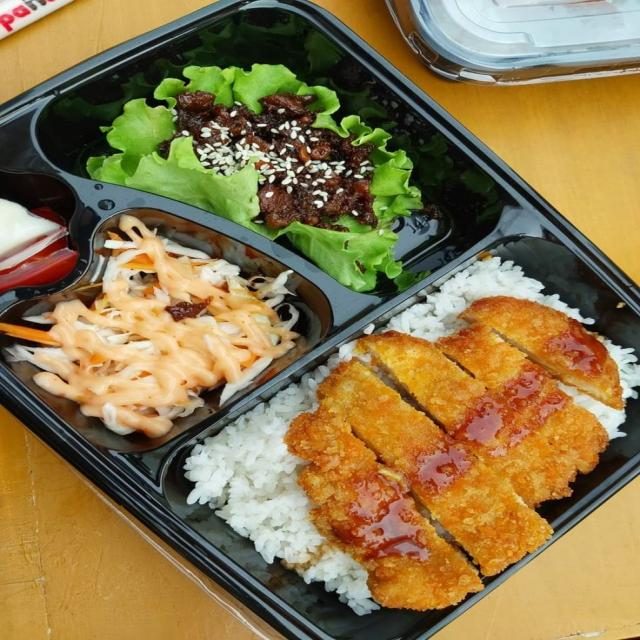Carbohydrate: (179, 256, 623, 616)
Kaow-Friedpork: (3, 24, 640, 640)
Protein: (287, 295, 622, 616)
Vegetable: (88, 64, 414, 294), (0, 212, 303, 432)
